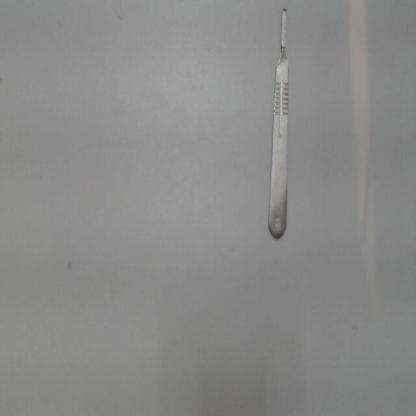No.4 BP Handle: (260, 2, 296, 248)
